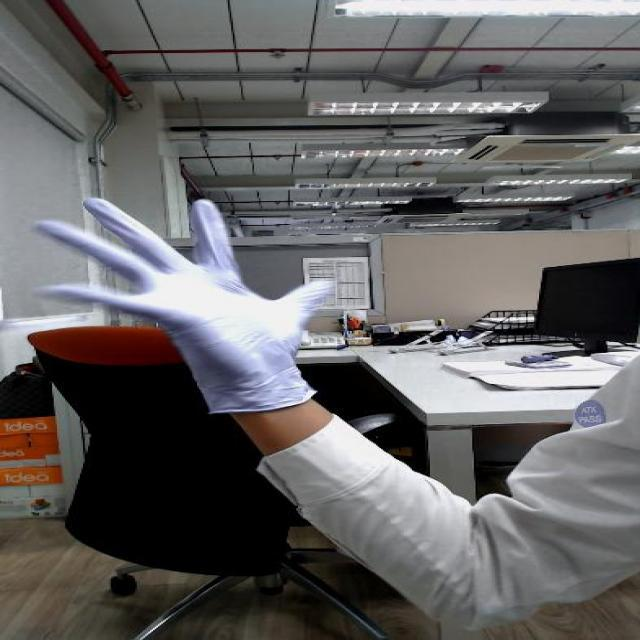with_gloves: (24, 190, 347, 374)
